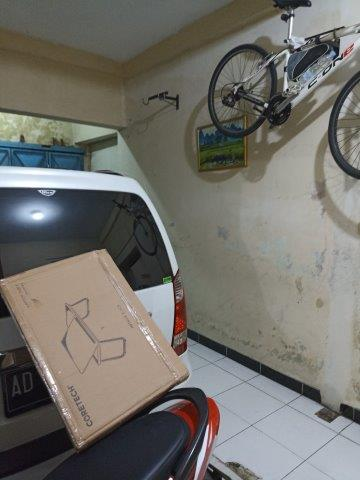kardus: (3, 253, 186, 446)
